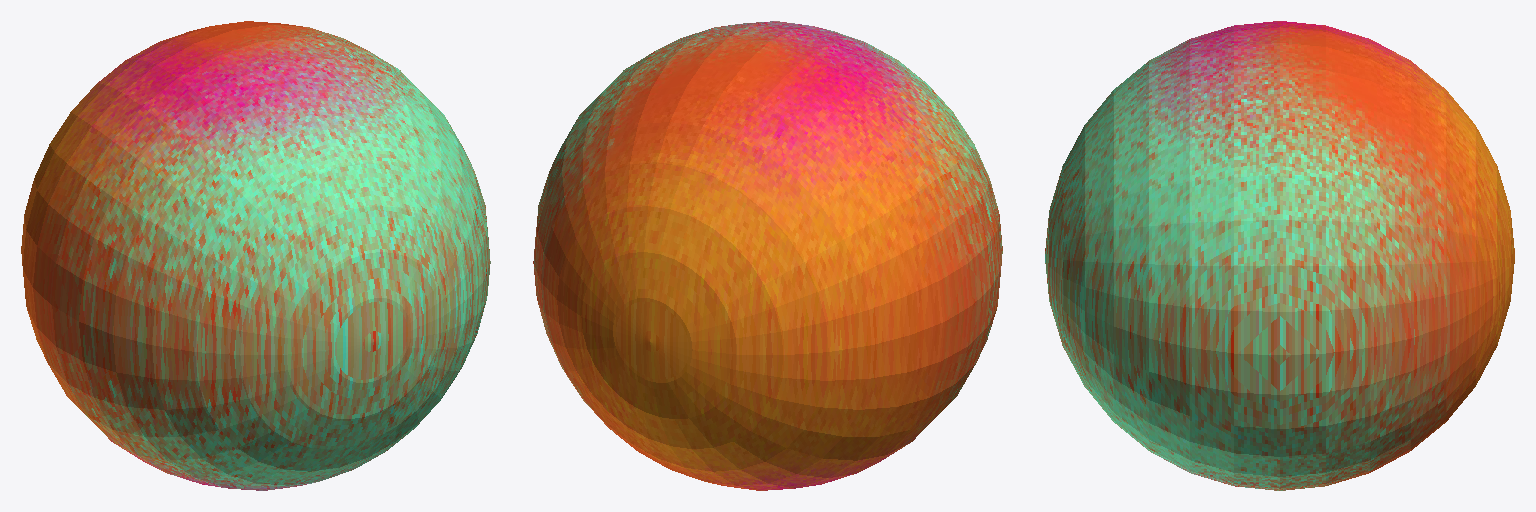
3 views of the same model, side by side, from view 1: azimuth 30°, elevation 25°; view 2: azimuth 150°, elevation 25°; view 3: azimuth 270°, elevation 25° (orthographic).
Visible parts, largest first — view 1: UFO_TOP; view 2: UFO_TOP; view 3: UFO_TOP.
Part boxes in pixels (x1,y1,x2,y2): UFO_TOP: (21, 21, 490, 490); UFO_TOP: (533, 21, 1002, 490); UFO_TOP: (1045, 21, 1514, 490).
Size of the model in its own units: 0.1632 by 0.1632 by 0.1632.
1 materials, 1 textured.